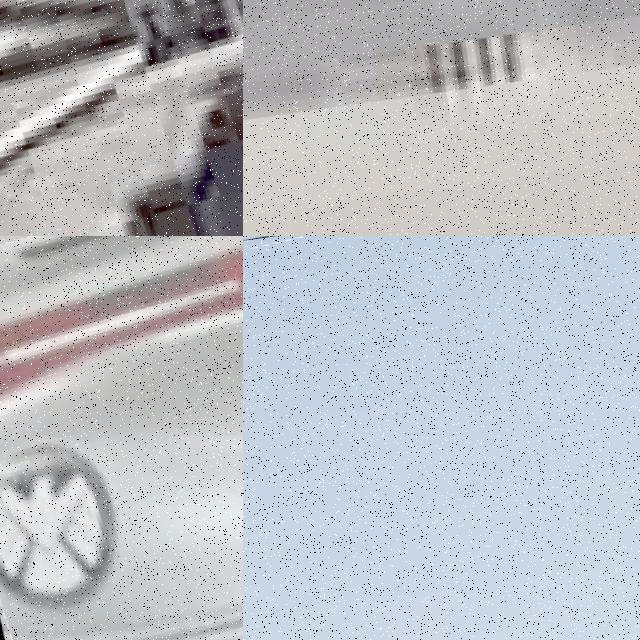drone: (0, 236, 243, 640), (0, 0, 243, 236)
